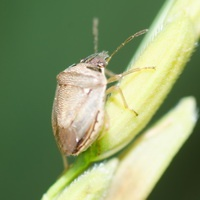insect: (52, 18, 147, 155)
